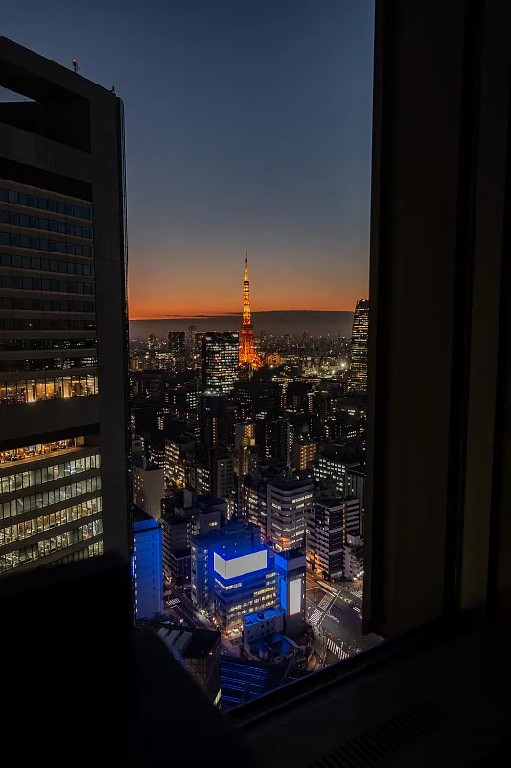Tokyo: (238, 250, 265, 373)
